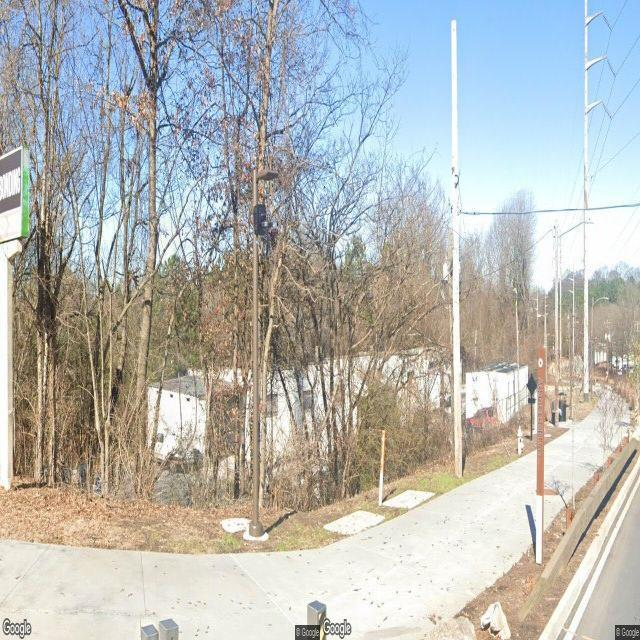seating: (550, 399, 562, 424)
trash_can: (558, 392, 566, 422)
